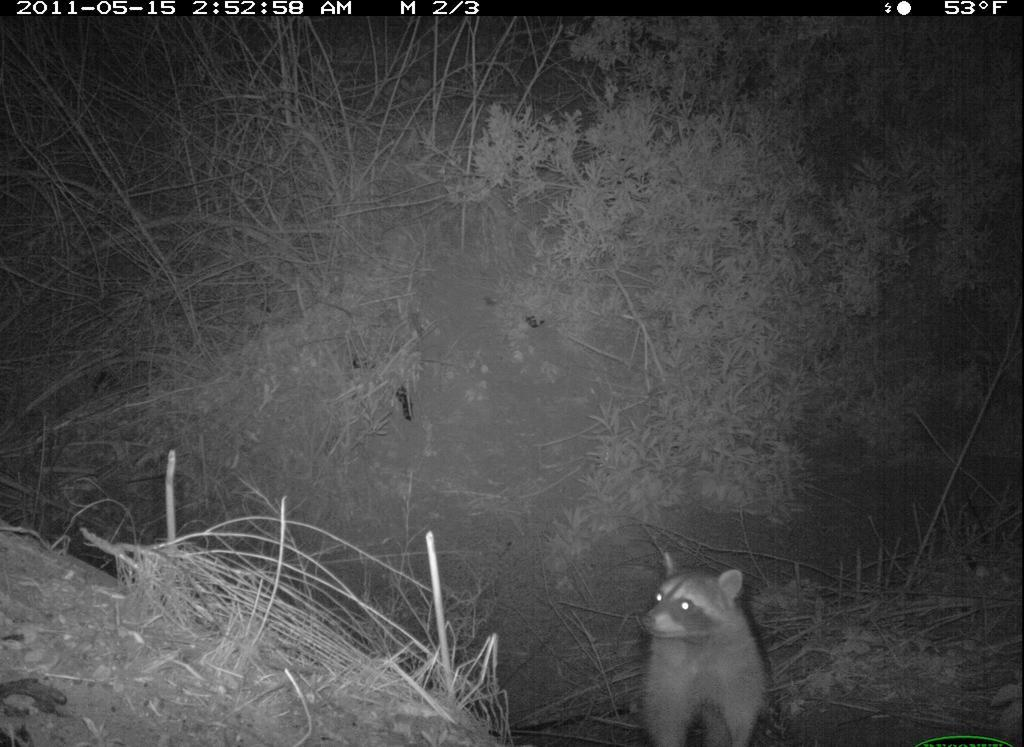raccoon: (630, 528, 774, 747)
